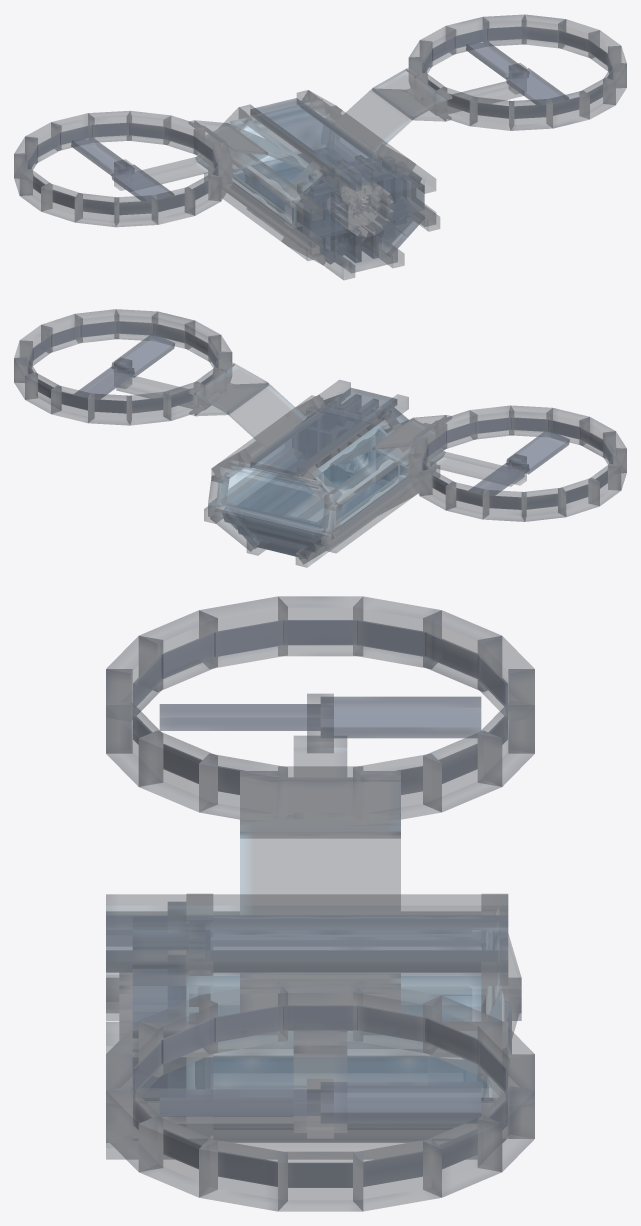
File: Sci-fi_Drone.glb
The picture shows the model from 3 angles, top to bottom: view 1: azimuth 30°, elevation 25°; view 2: azimuth 150°, elevation 25°; view 3: azimuth 270°, elevation 25°; orthographic projection. The views are drawn at different scales.
Visible parts, largest first — view 1: unnamed (×84); view 2: unnamed (×87); view 3: unnamed (×89).
Part boxes in pixels (x1,y1,x2,y2): unnamed (×84): (14, 14, 626, 279); unnamed (×87): (14, 309, 626, 567); unnamed (×89): (106, 596, 534, 1211).
Size of the model in its own units: 3.13 by 0.6438 by 1.
1 material, 1 textured.
